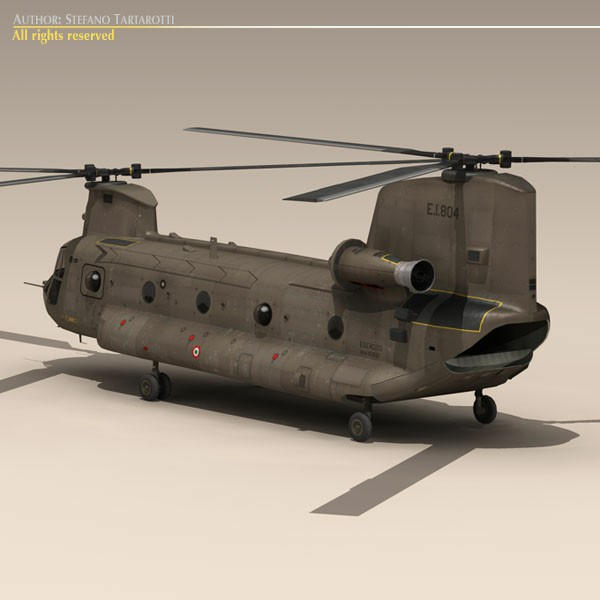chinook: (11, 125, 589, 442)
